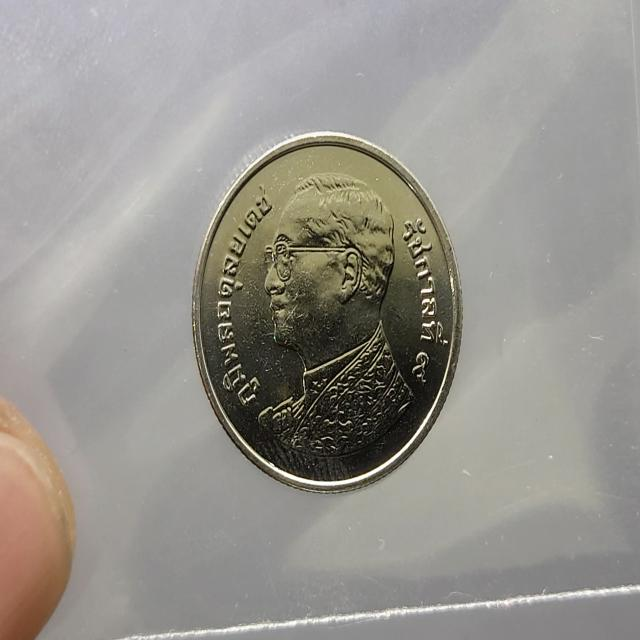1 Bath: (182, 121, 476, 509)
